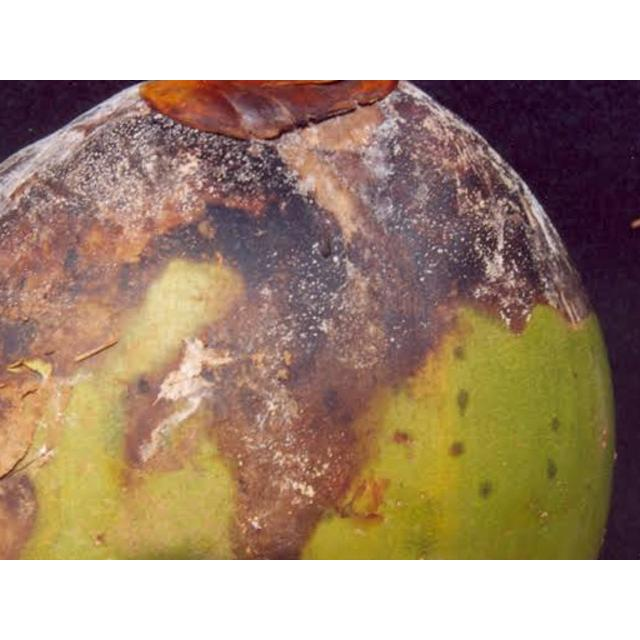damaged: (0, 80, 614, 559)
